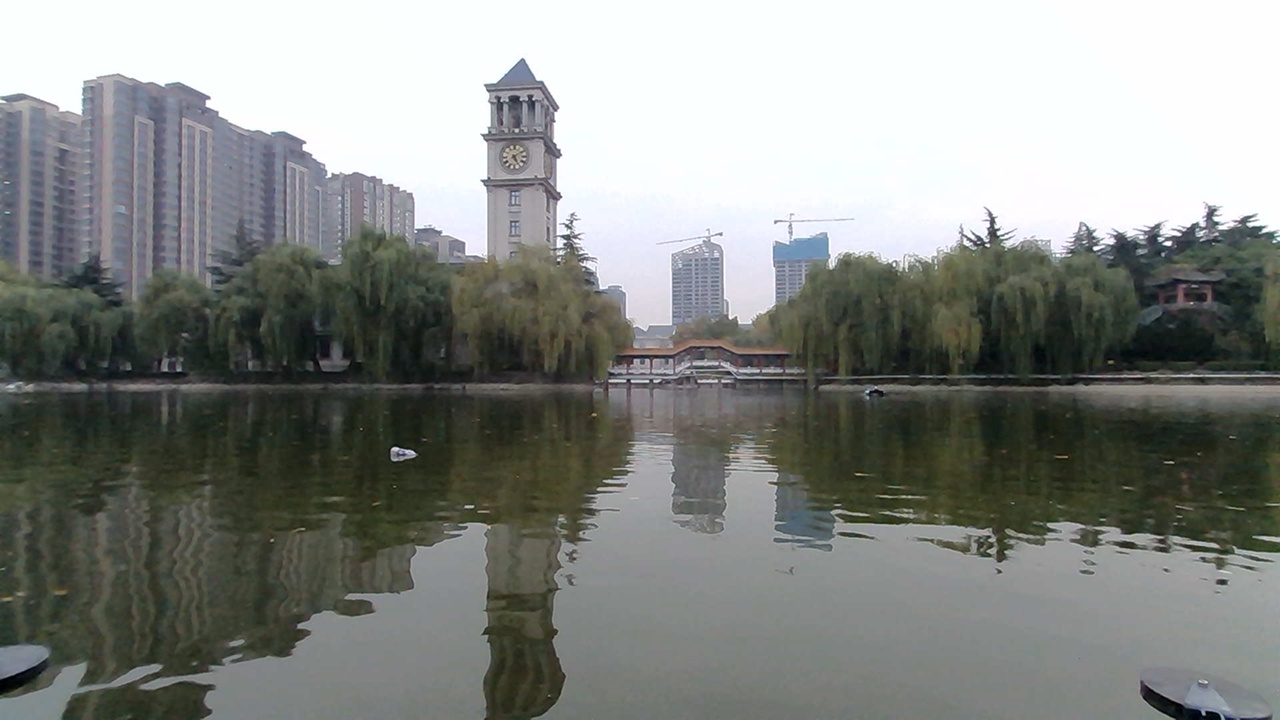bottle: (384, 430, 436, 468)
